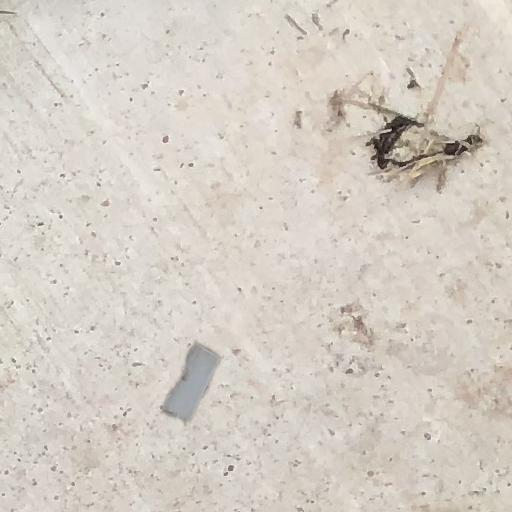smoke: (163, 345, 219, 421)
